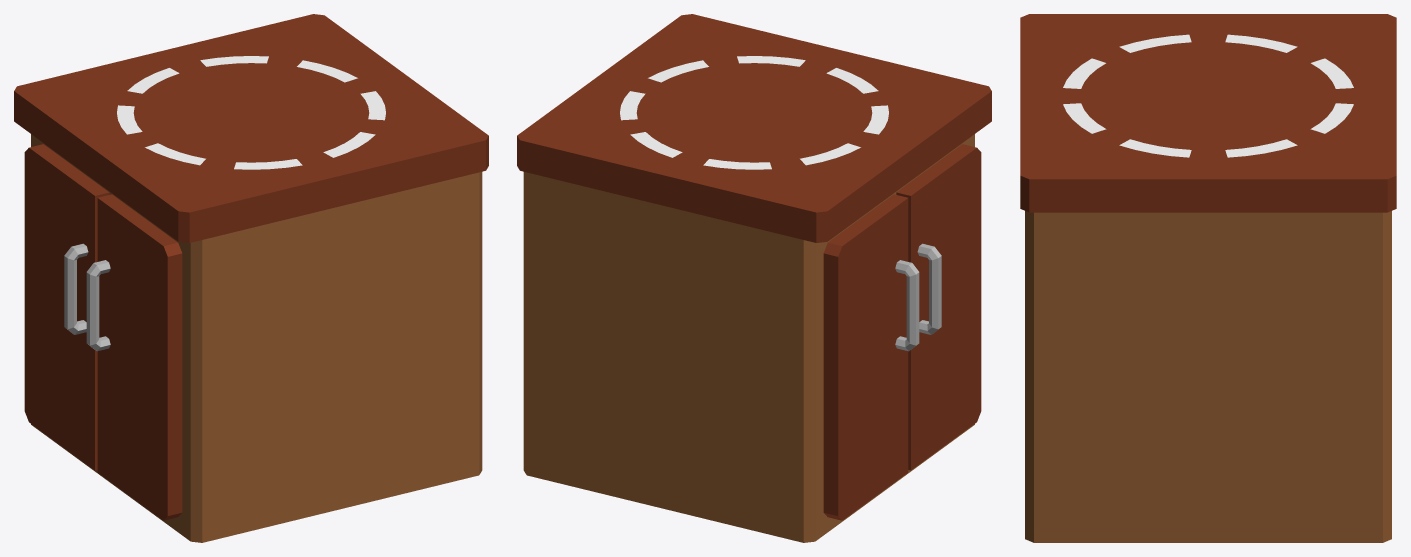
File: Plates_Counter.fbx
The picture shows the model from 3 angles, left to right: view 1: azimuth 30°, elevation 25°; view 2: azimuth 150°, elevation 25°; view 3: azimuth 270°, elevation 25°; orthographic projection. The views are drawn at different scales.
Parts seen in each view (by area): view 1: Counter_Base, Counter_Top, Counter_Doors, Circle, Counter_Handles; view 2: Counter_Base, Counter_Top, Counter_Doors, Circle, Counter_Handles; view 3: Counter_Base, Counter_Top, Circle.
Boxes of the visible parts, x1,y1,x2,y2 form: Counter_Base: [31, 134, 482, 542]; Counter_Top: [14, 14, 488, 242]; Counter_Doors: [24, 144, 182, 520]; Circle: [117, 56, 385, 169]; Counter_Handles: [64, 243, 110, 351]; Counter_Base: [523, 134, 974, 542]; Counter_Top: [517, 14, 991, 242]; Counter_Doors: [823, 144, 981, 520]; Circle: [620, 56, 888, 169]; Counter_Handles: [895, 243, 941, 351]; Counter_Base: [1025, 211, 1391, 542]; Counter_Top: [1020, 14, 1396, 212]; Circle: [1063, 34, 1353, 157].
Bounding box in the file's own units: 1.13 × 1.1 × 1.02.
